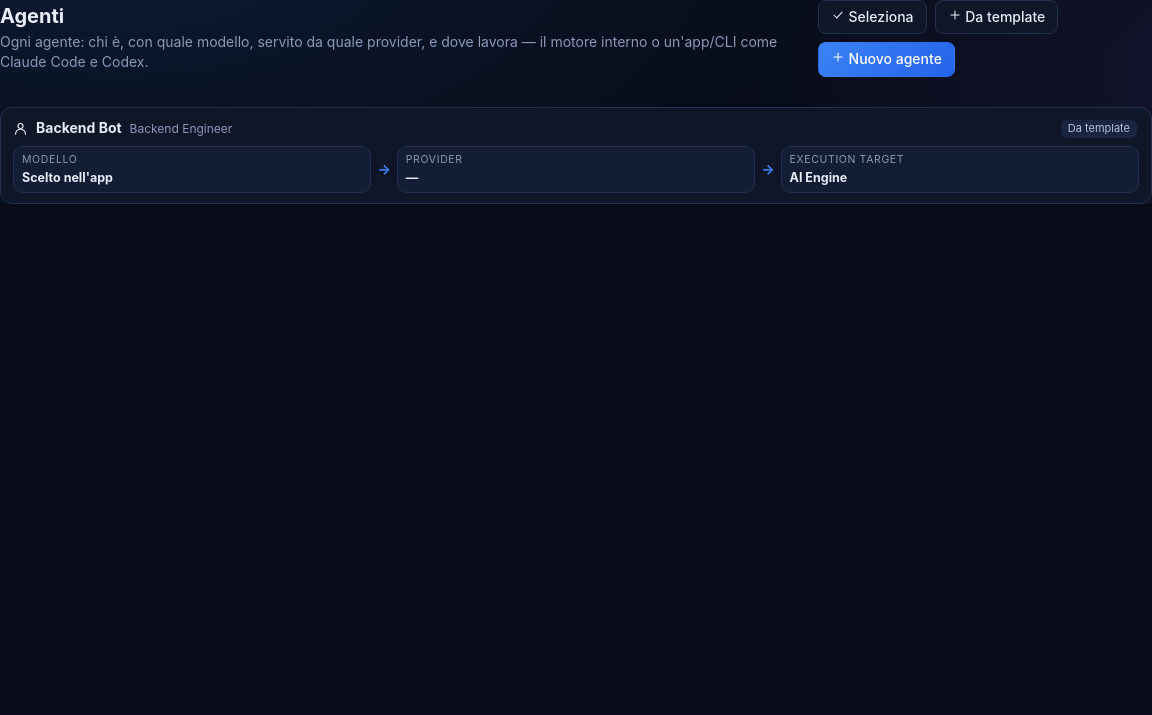
Test: Agents — deleting (ADR-035 §2) › a refusal is explained and nothing disappears
The image size is (1152, 715).
What coordinates should you click on to do the following:
click the button "Backend Bot"
I would click on:
 (576, 155)
Its box is [0, 107, 1151, 204].
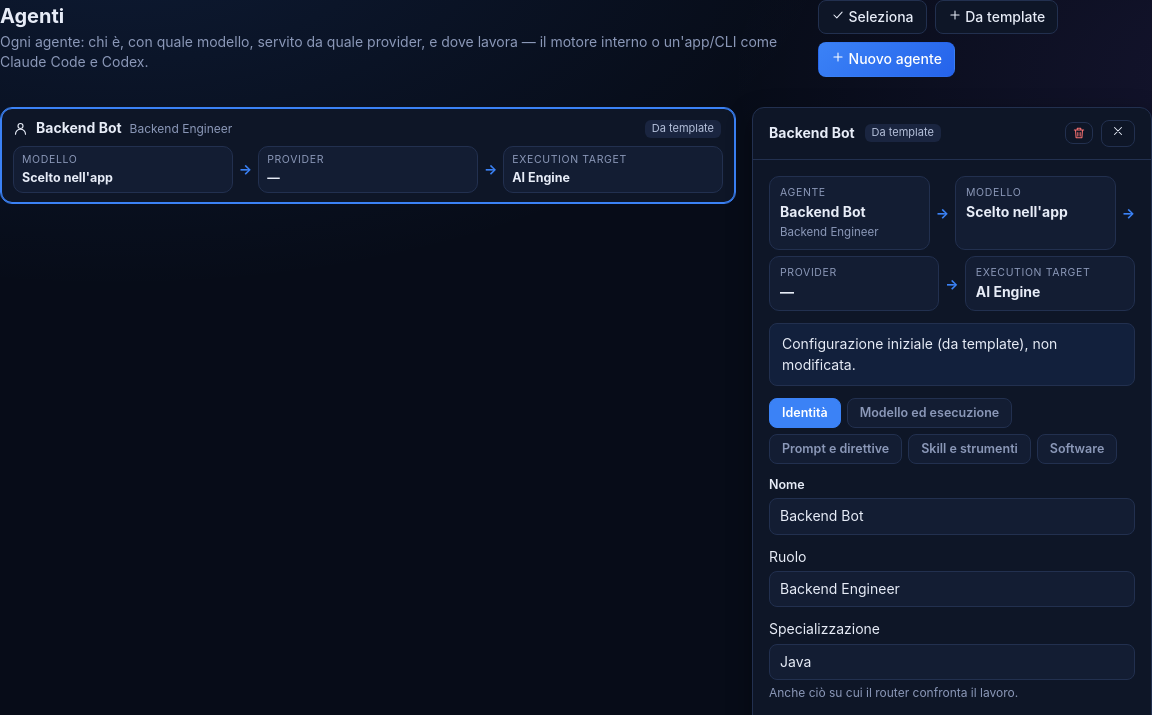
What coordinates should you click on to do the following:
click the button named "Elimina Backend Bot"
I would click on:
 (1079, 133)
Its box is [1065, 122, 1093, 144].
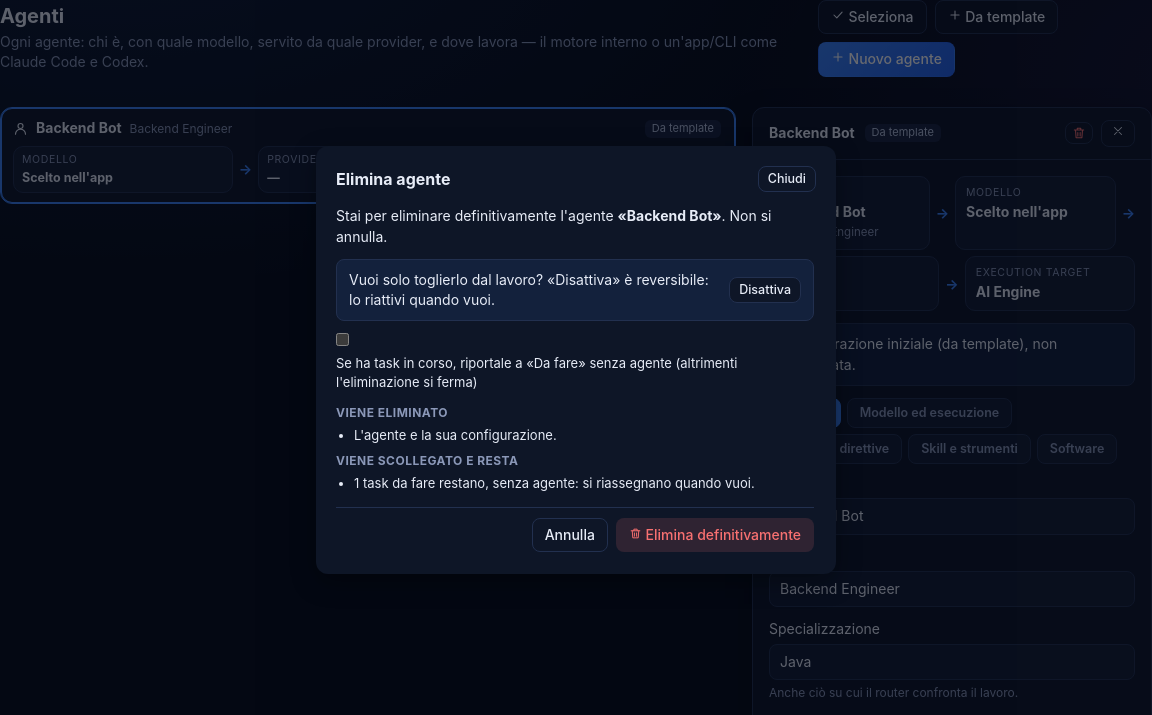
Now the list item "1 task da fare" is shown, box [354, 475, 755, 491]
What coordinates should you click on to do the following:
click the button "Elimina definitivamente"
I would click on:
 (715, 535)
Its box is [616, 518, 814, 552].
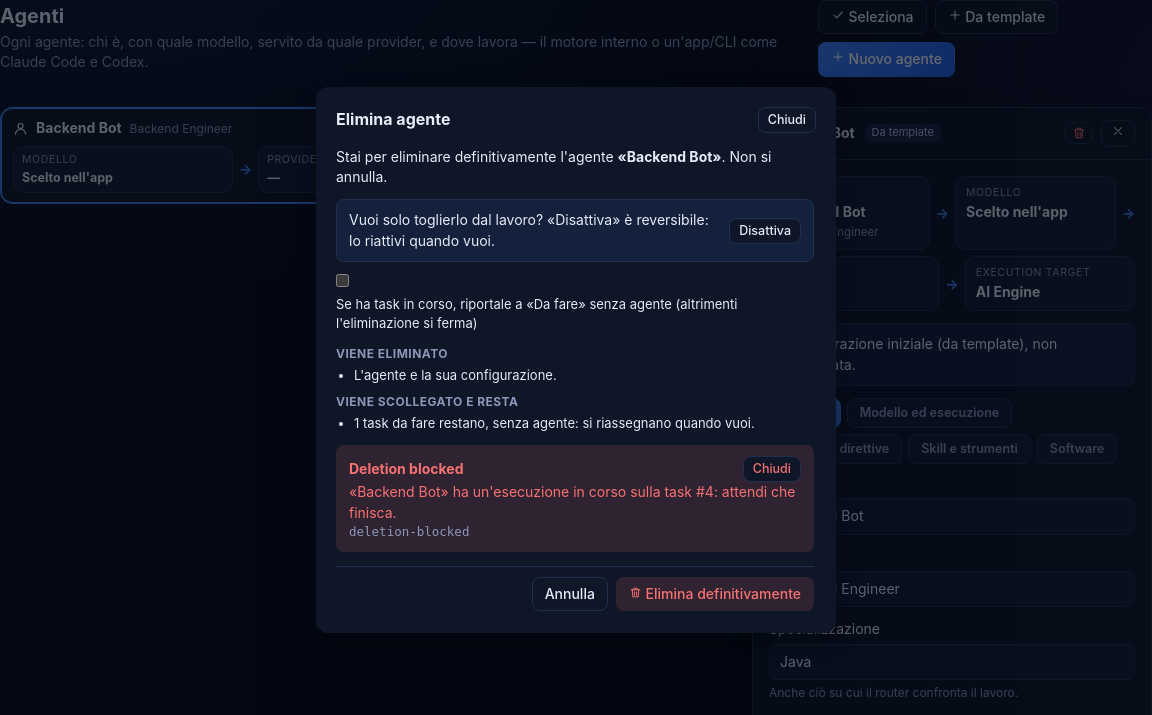
Expected: the button "Backend Bot" is shown, [0, 107, 736, 204]
Now the text "attendi che finisca" is shown, box [349, 483, 796, 521]
